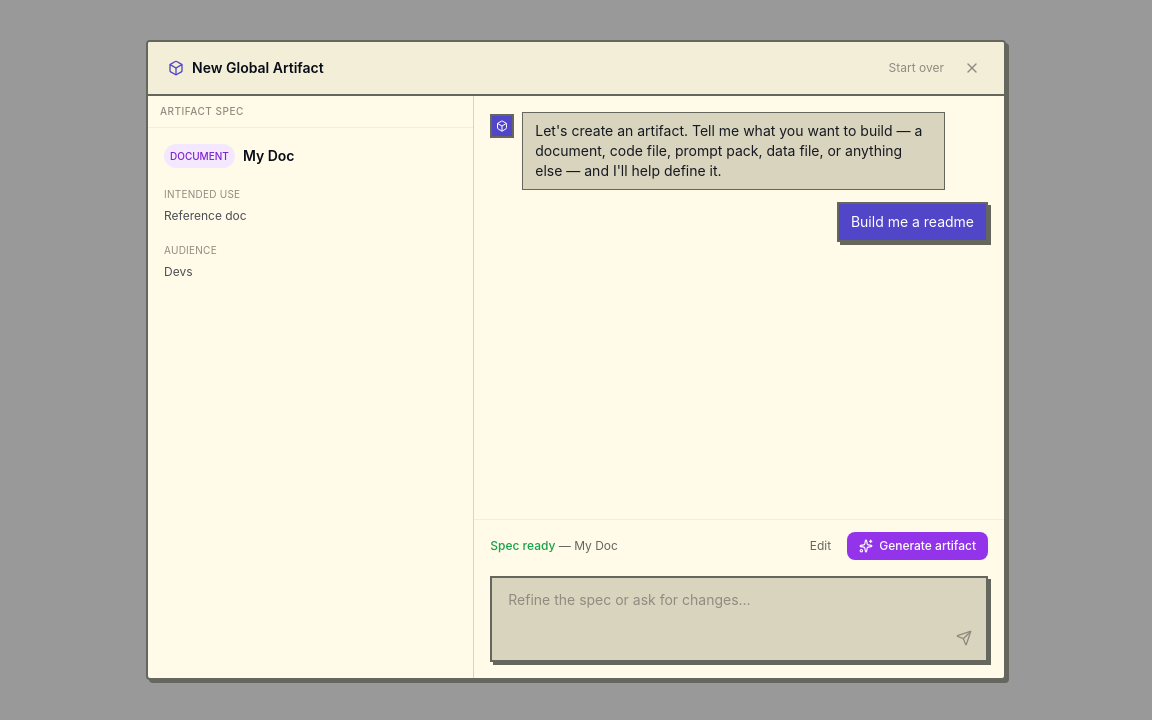
Test: ArtifactGeneratorModal › renders the EditForm when Edit button is clicked after spec is ready
Expected: the text "Spec ready" is shown, 490,538 -> 555,553
Click the button "Edit" at (820, 546), box 802,534 -> 839,558
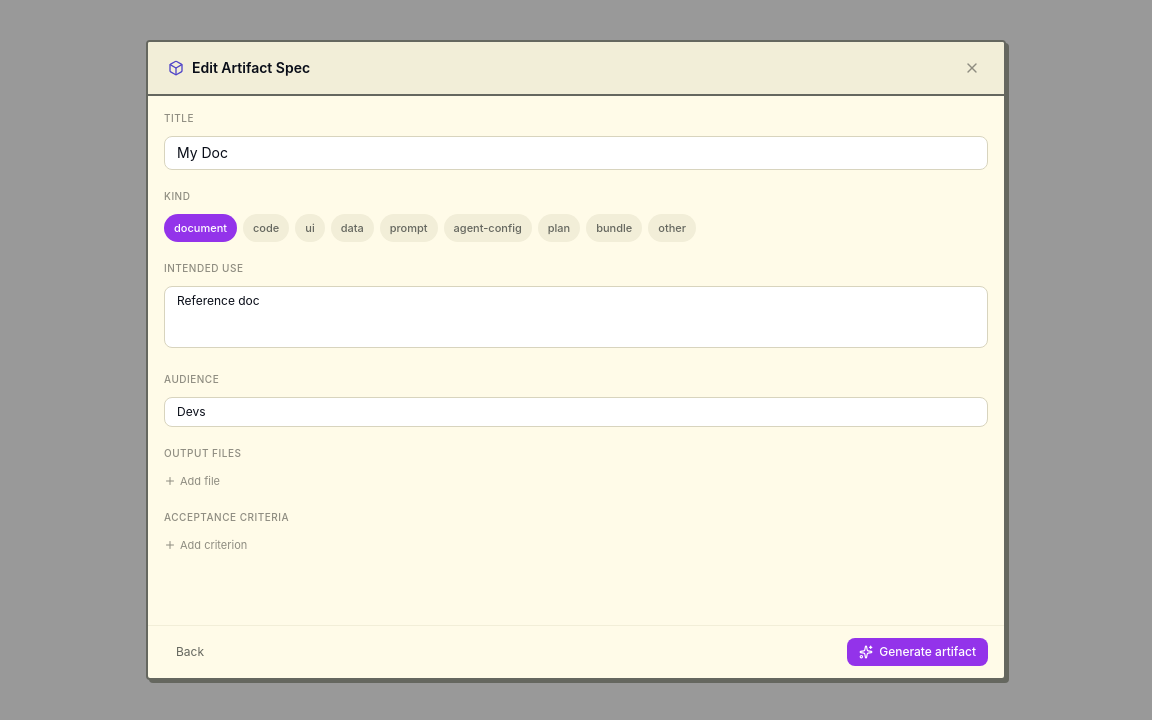
Now the heading "Edit Artifact Spec" is shown, box 192,58 -> 310,78
